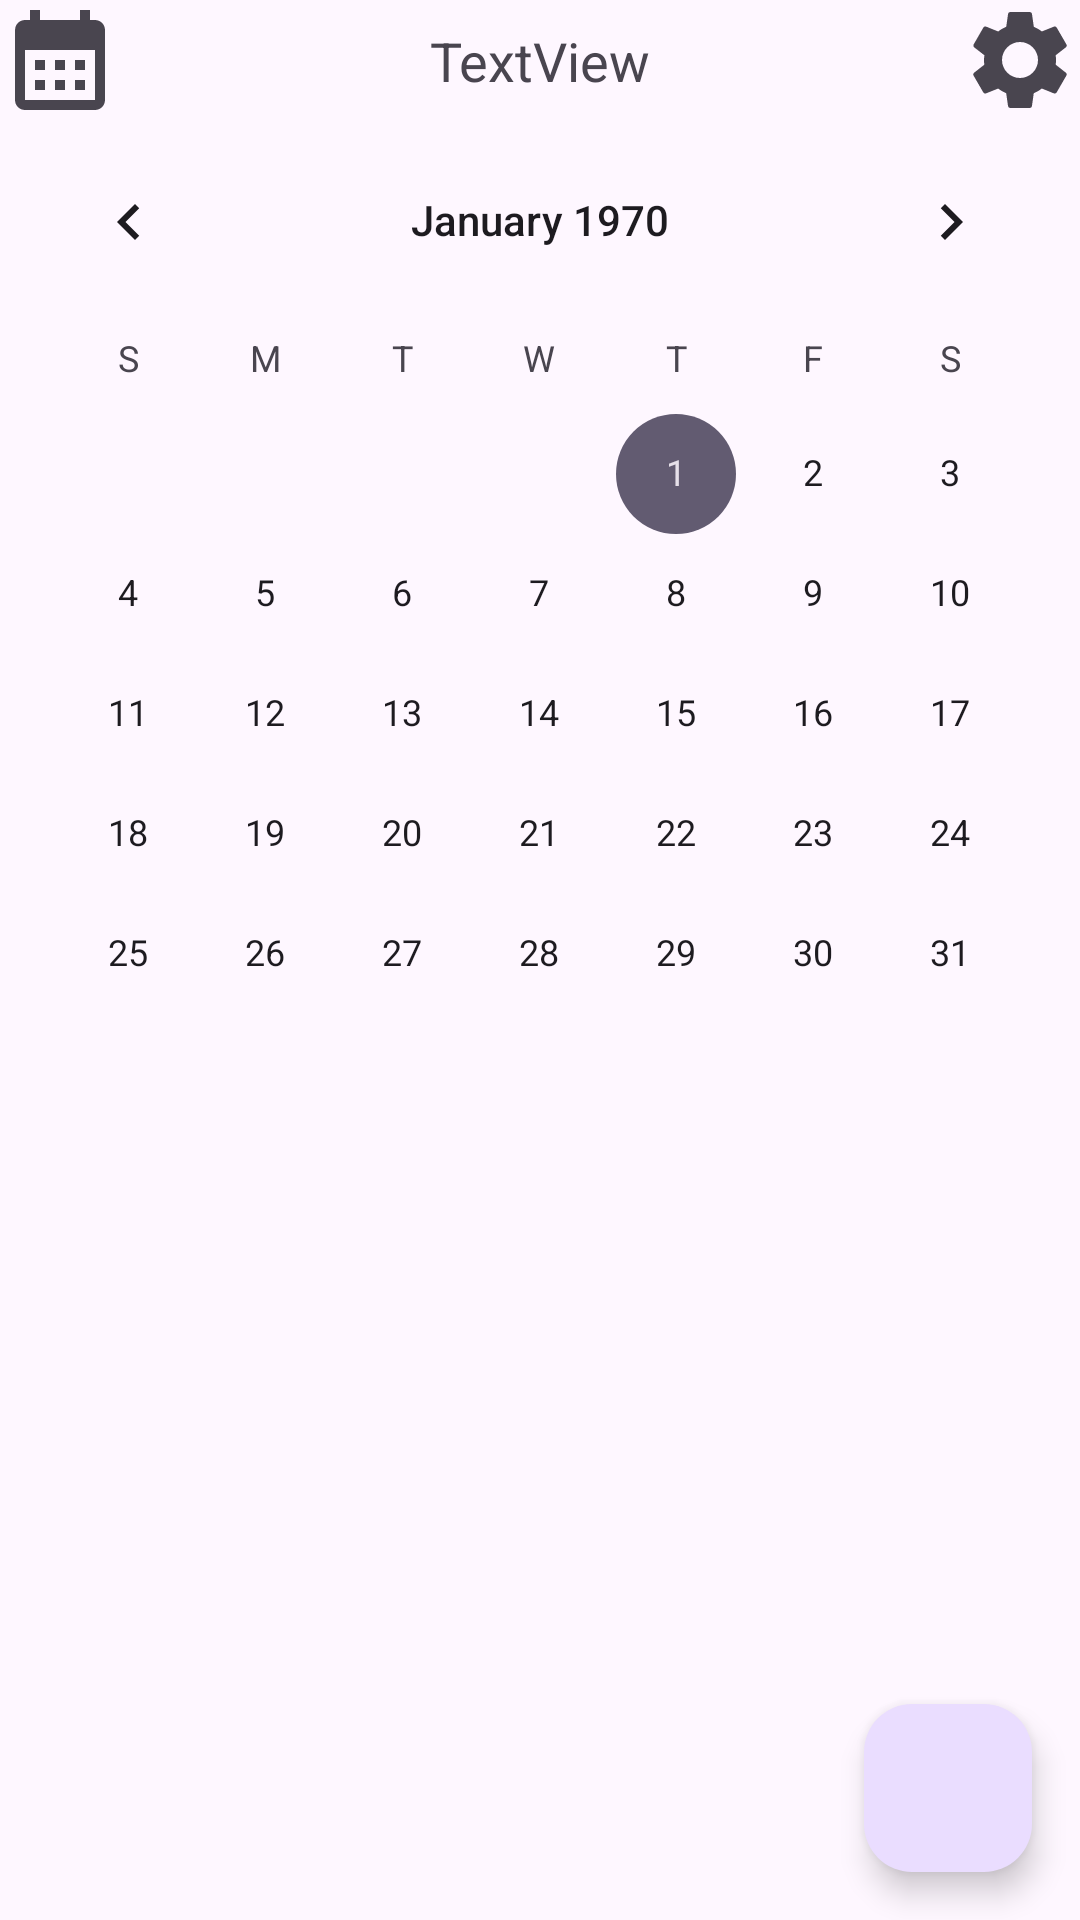

Named icons in this screenshot (1080px x 1920px) and their bounding boxes, bbox=[x1, y1, x2, y2]:
calendar: bbox=[15, 10, 105, 110]
Settings: bbox=[973, 12, 1067, 108]
